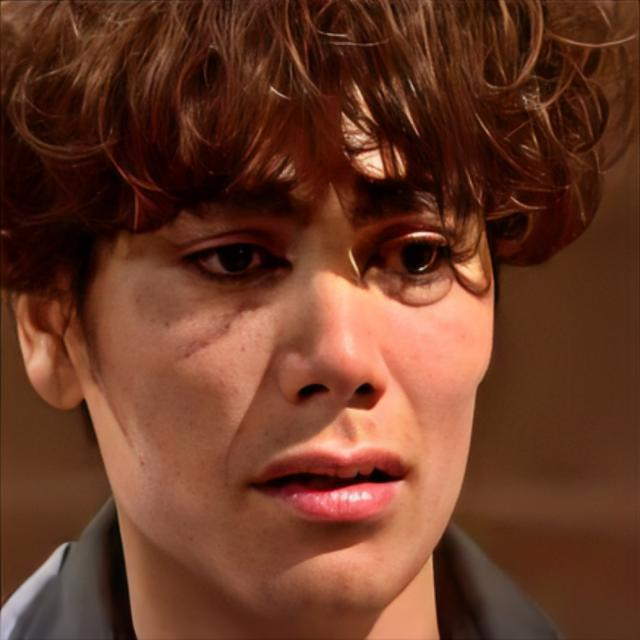sad: (92, 39, 494, 622)
